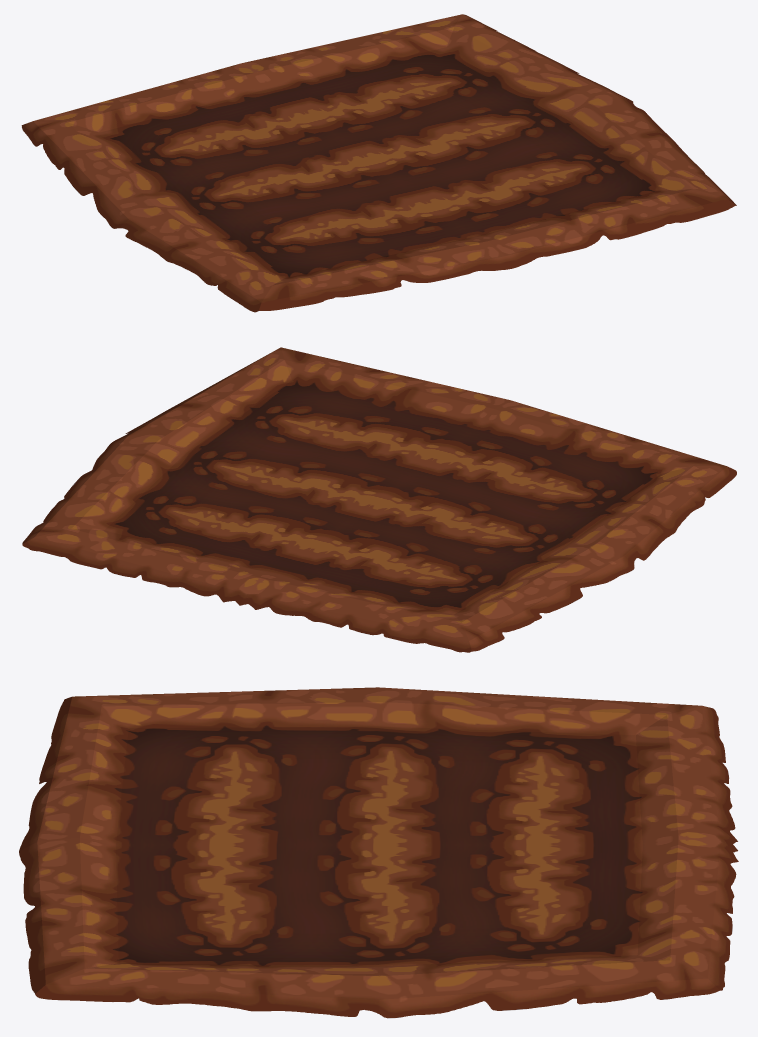
File: Empty_field.FBX
3 renders of one model, top to bottom at view 1: azimuth 30°, elevation 25°; view 2: azimuth 150°, elevation 25°; view 3: azimuth 270°, elevation 25°, orthographic. The views are drawn at different scales.
Visible parts, largest first — view 1: Empty_Field; view 2: Empty_Field; view 3: Empty_Field.
Part boxes in pixels (x1,y1,x2,y2): Empty_Field: (21, 14, 736, 312); Empty_Field: (22, 347, 736, 652); Empty_Field: (19, 687, 738, 1018).
Bounding box in the file's own units: 296 × 6.76 × 274.
